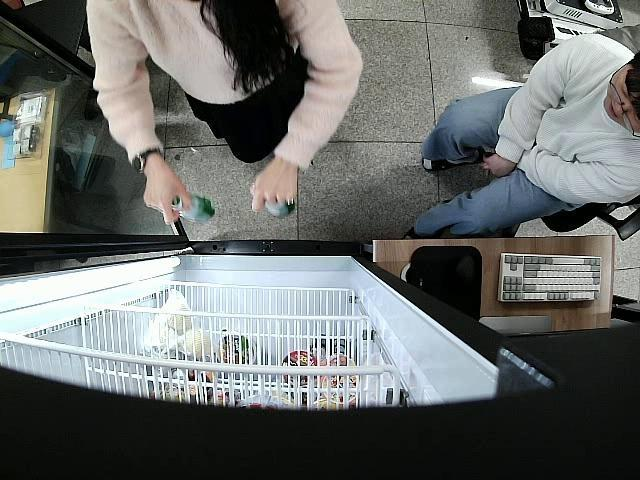18_trevi: (170, 192, 215, 226), (265, 190, 294, 219)
